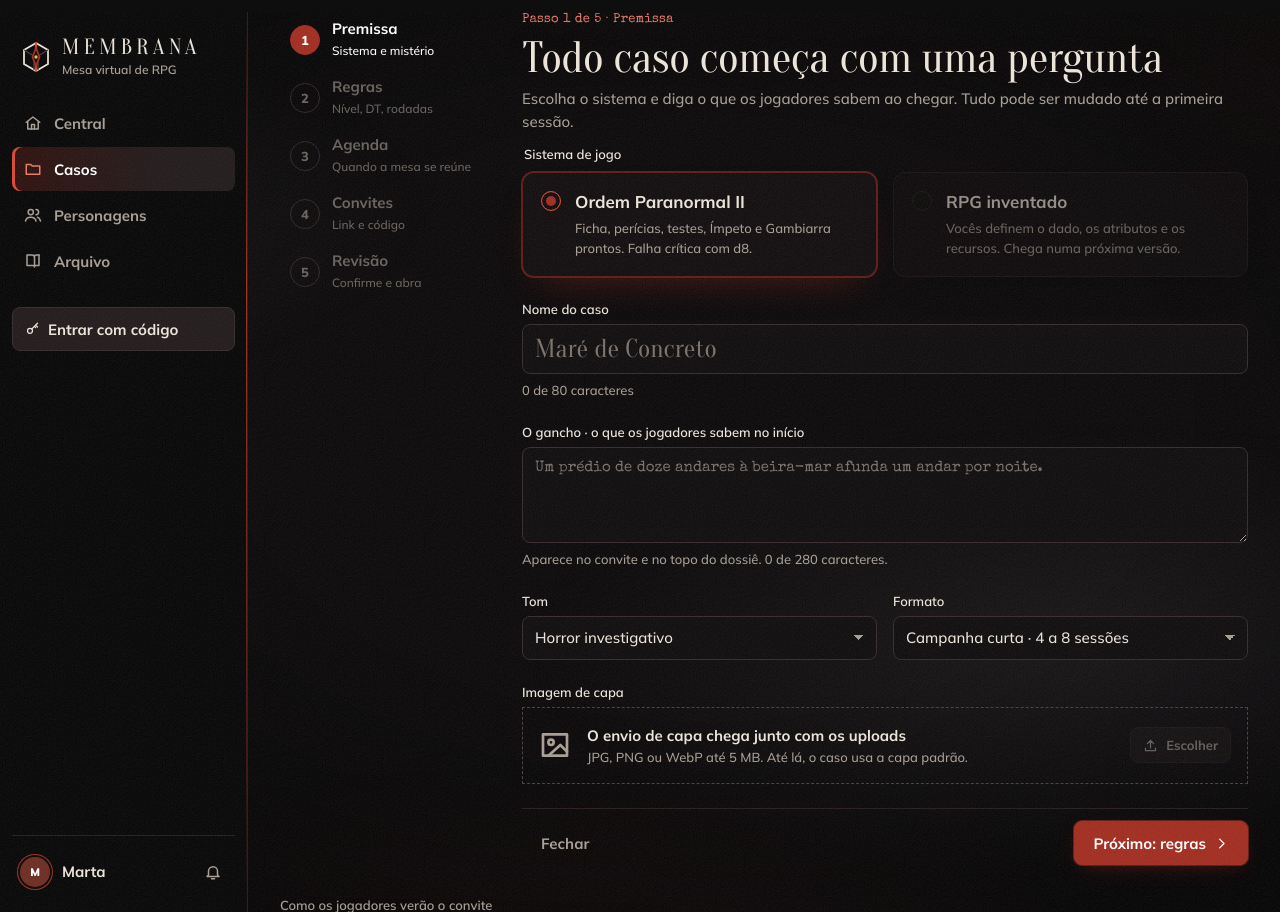
Scenario: Novo caso › passo inválido não avança e mostra o erro no campo
The image size is (1280, 912).
Click the button "Próximo: regras" at (1161, 843), box [1074, 821, 1248, 865]
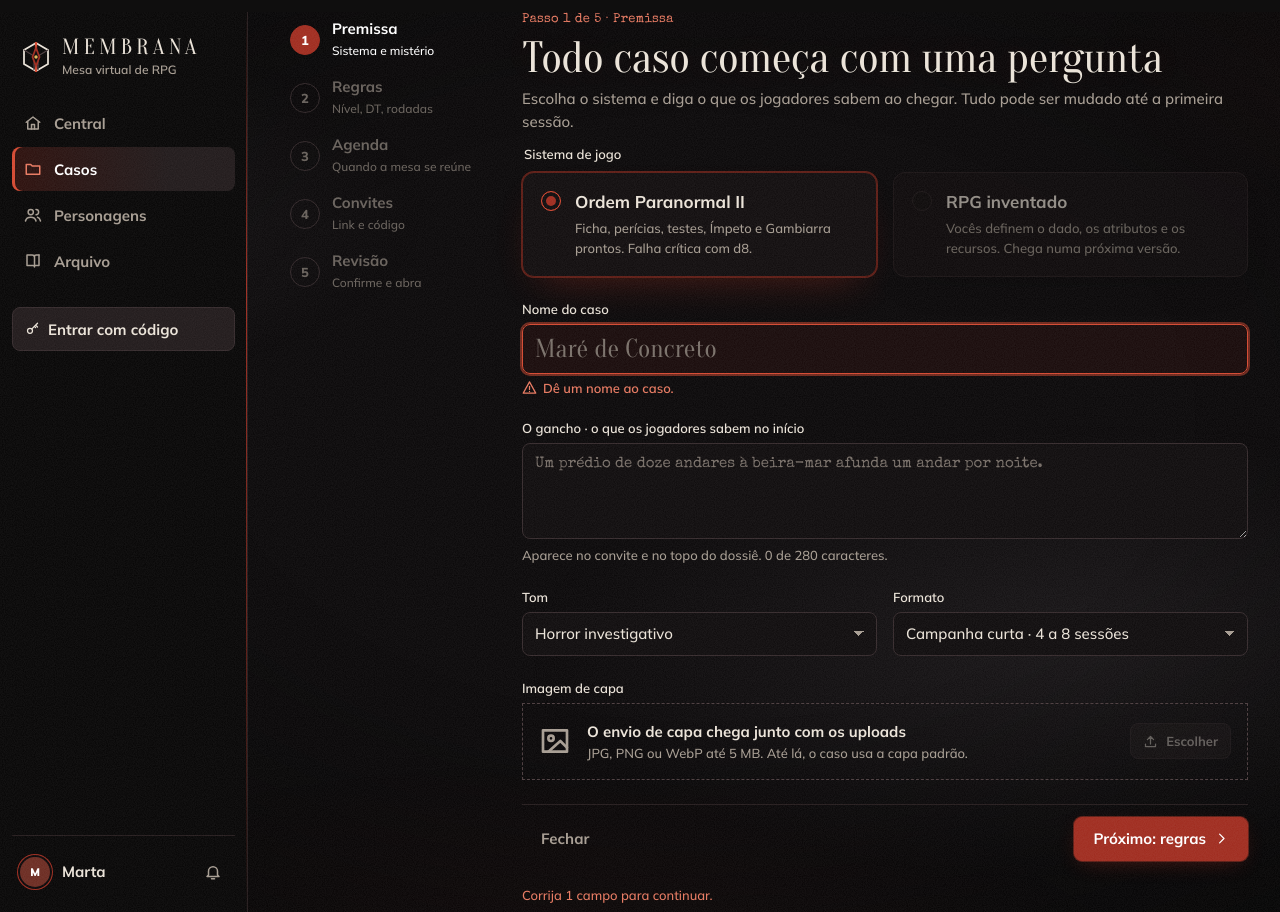
Expected: the text "Passo 1 de 5 · Premissa" is shown, [522, 13, 674, 26]
Expected: the text "Dê um nome ao caso." is shown, [522, 380, 674, 396]
Expected: the text "Corrija 1 campo para continuar." is shown, [522, 887, 713, 903]
